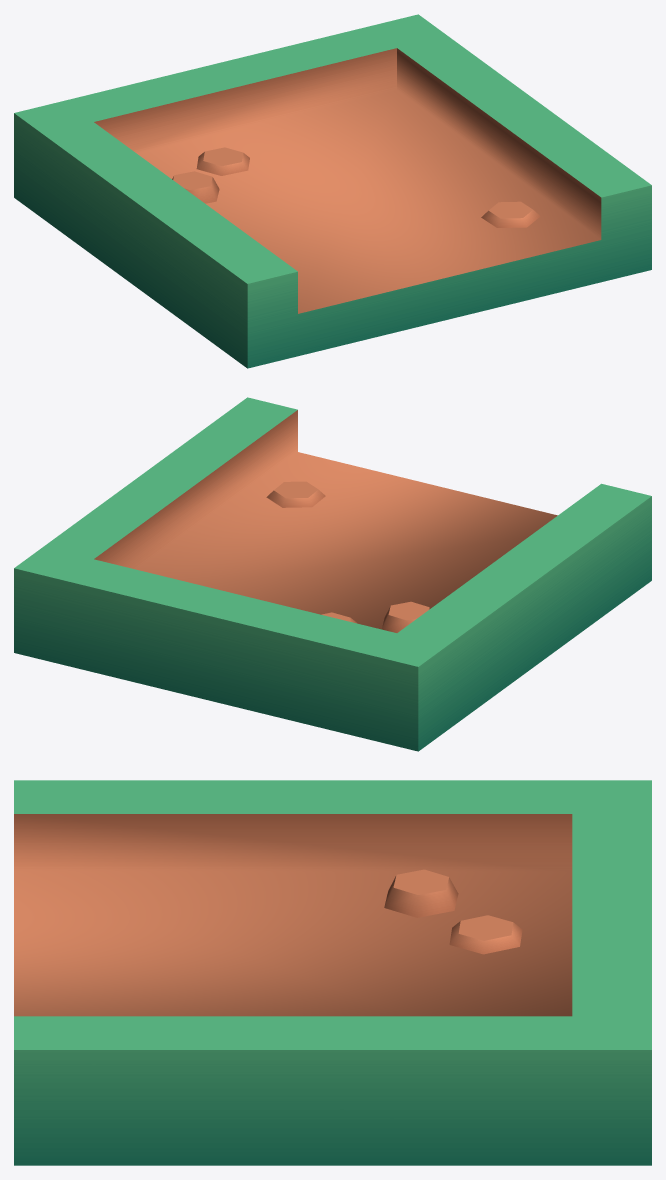
The model's file is tile-end.fbx.
The picture shows the model from 3 angles, top to bottom: view 1: azimuth 30°, elevation 25°; view 2: azimuth 150°, elevation 25°; view 3: azimuth 270°, elevation 25°; orthographic projection. The views are drawn at different scales.
Visible parts, largest first — view 1: tile-end; view 2: tile-end; view 3: tile-end.
Boxes of the visible parts, x1=… form: tile-end: x1=14, y1=14, x2=651, y2=368; tile-end: x1=14, y1=397, x2=651, y2=751; tile-end: x1=14, y1=780, x2=651, y2=1165.
Bounding box in the file's own units: 100 × 20 × 100.
